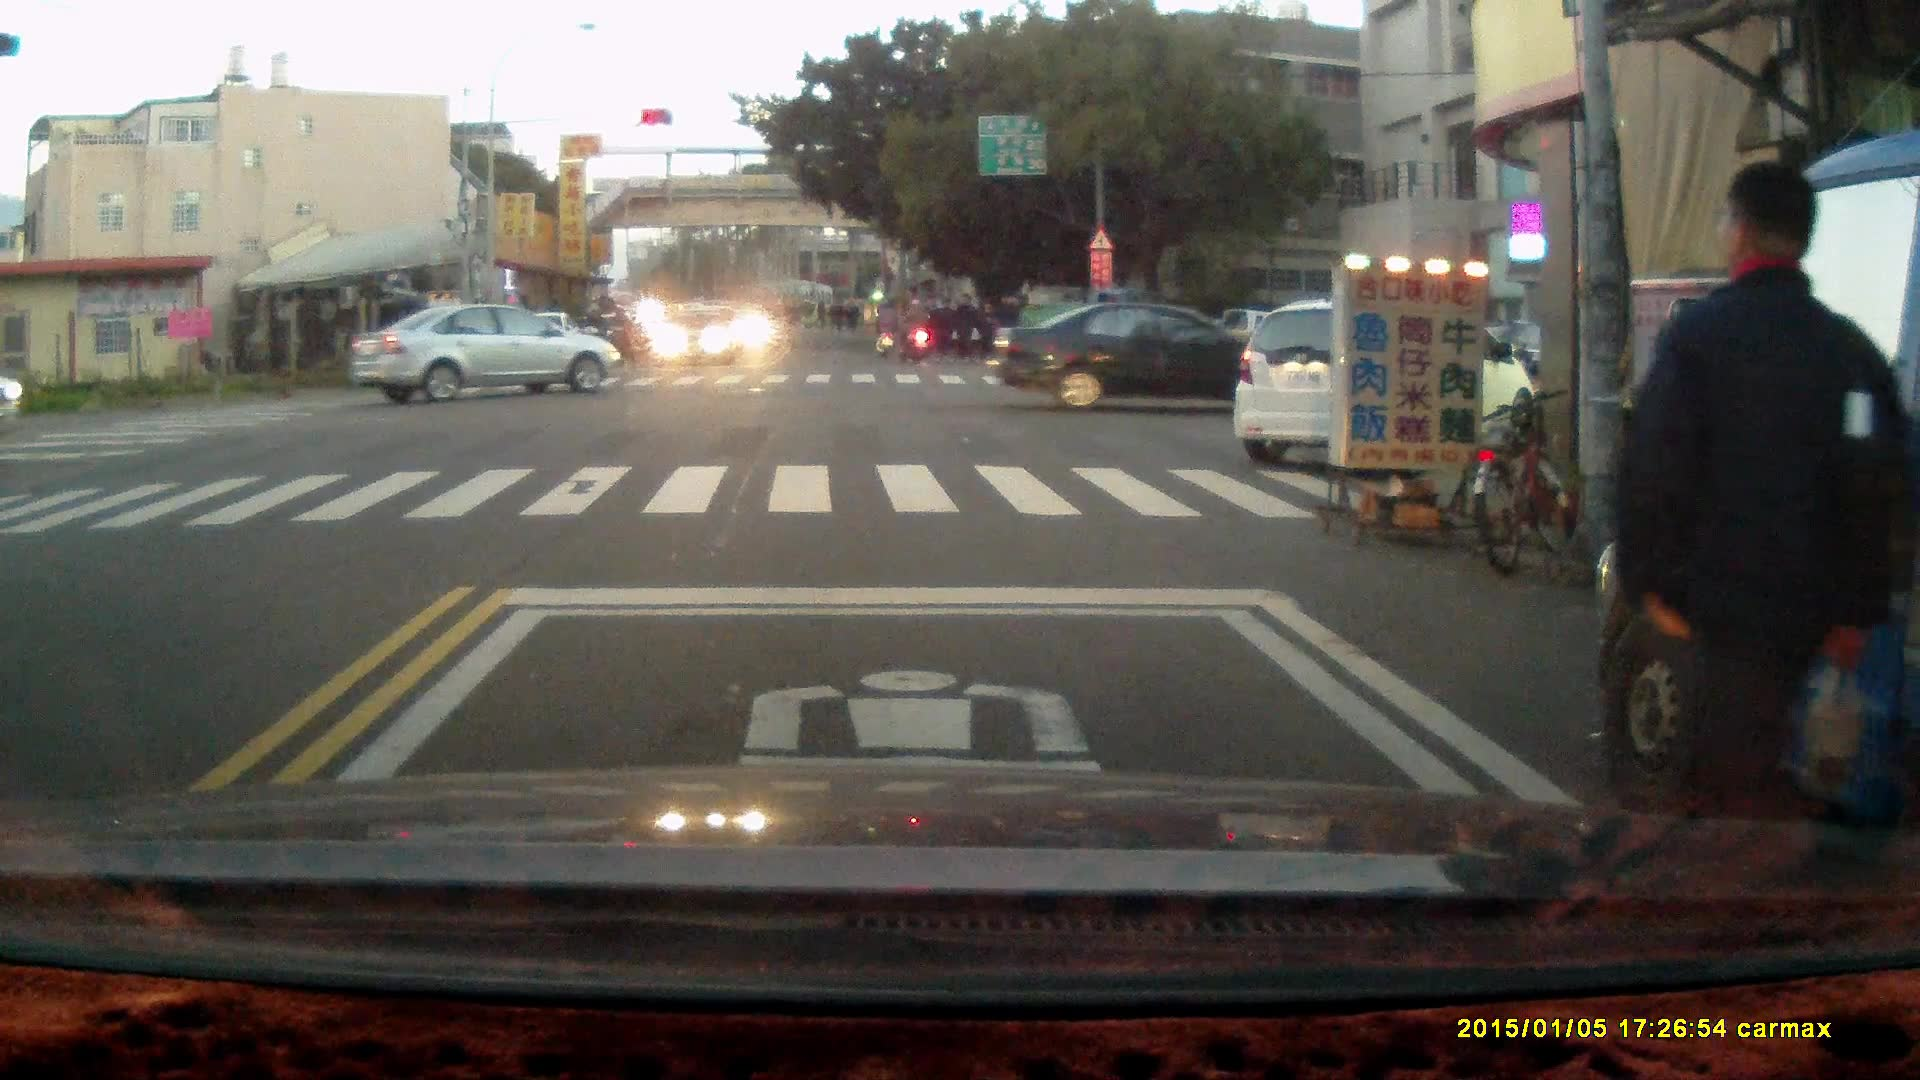pedestrian: (1621, 156, 1915, 856), (950, 289, 977, 366)
rider: (896, 296, 932, 361), (576, 301, 608, 367), (870, 296, 901, 359), (603, 301, 631, 364)
vehicle: (1598, 132, 1920, 845), (1233, 296, 1533, 459), (987, 298, 1272, 414), (355, 303, 626, 405), (1002, 284, 1179, 367)
